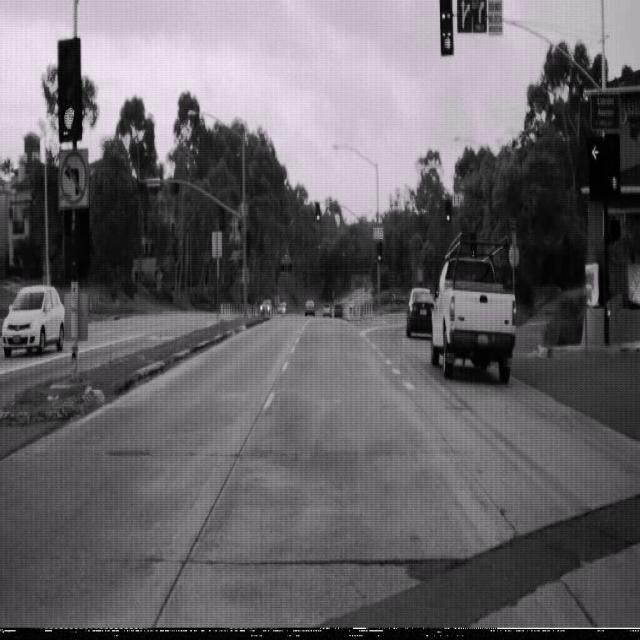noLeftTurn: (59, 148, 88, 208)
